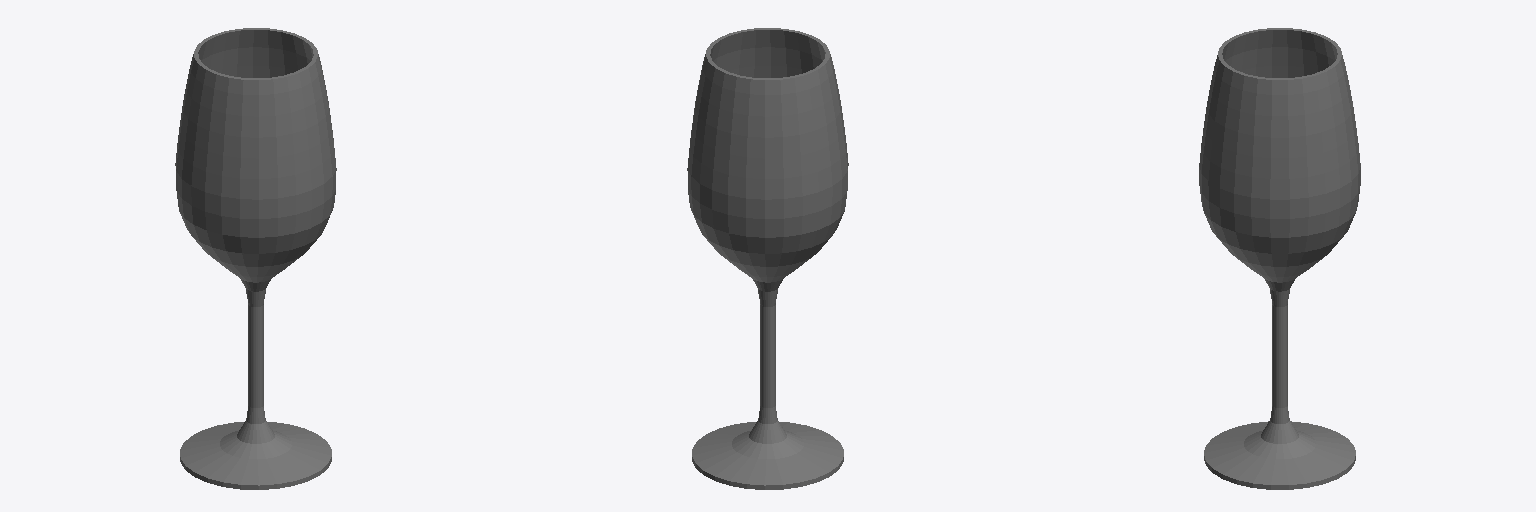
Rendered from Wine_Glass.obj.
The picture shows the model from 3 angles: view 1: azimuth 30°, elevation 25°; view 2: azimuth 150°, elevation 25°; view 3: azimuth 270°, elevation 25°; orthographic projection.
Visible parts, largest first — view 1: Cylinder.001; view 2: Cylinder.001; view 3: Cylinder.001.
Part boxes in pixels (bbox=[...]): Cylinder.001: bbox=[175, 28, 336, 489]; Cylinder.001: bbox=[687, 28, 848, 489]; Cylinder.001: bbox=[1199, 28, 1360, 489].
Size of the model in its own units: 0.0549 by 0.1526 by 0.0553.